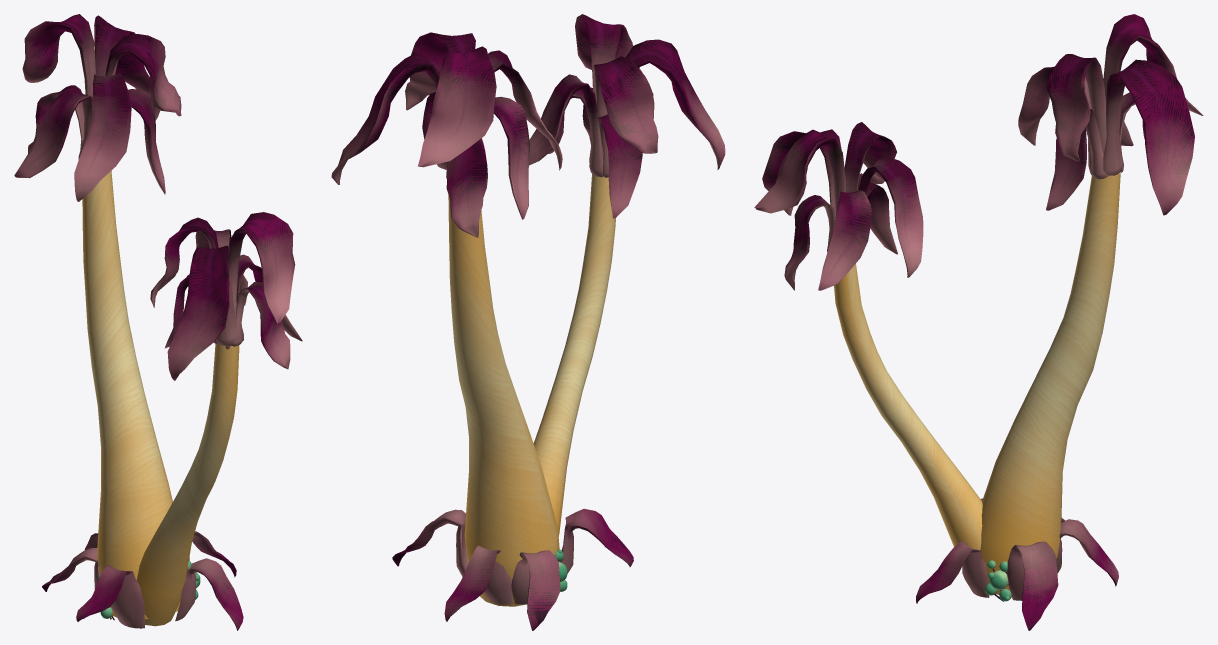
Rendered from palmtree_04.fbx.
3 renders of one model, left to right at view 1: azimuth 30°, elevation 25°; view 2: azimuth 150°, elevation 25°; view 3: azimuth 270°, elevation 25°, orthographic. The views are drawn at different scales.
Parts seen in each view (by area): view 1: palmtree_04; view 2: palmtree_04; view 3: palmtree_04.
Boxes of the visible parts, x1,y1,x2,y2 form: palmtree_04: (14, 14, 302, 630); palmtree_04: (331, 14, 725, 630); palmtree_04: (754, 14, 1203, 630).
Bounding box in the file's own units: 83.89 × 235 × 172.
1 material, 1 textured.
